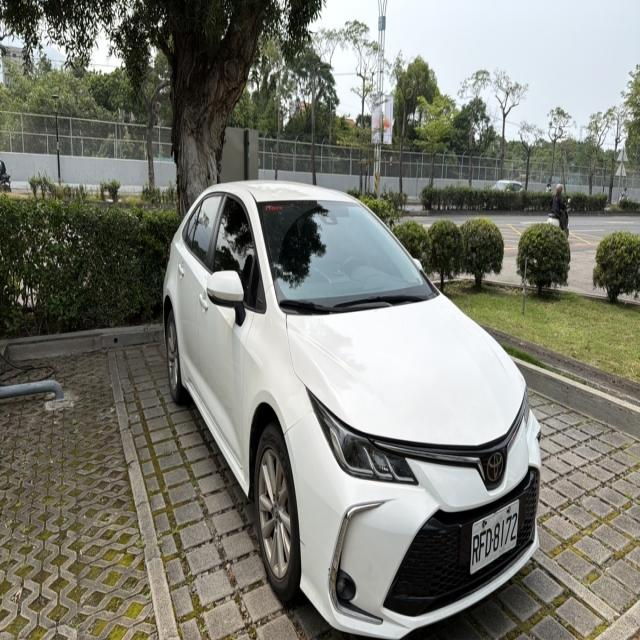license plate: (470, 502, 519, 573)
wheel: (254, 421, 300, 601)
